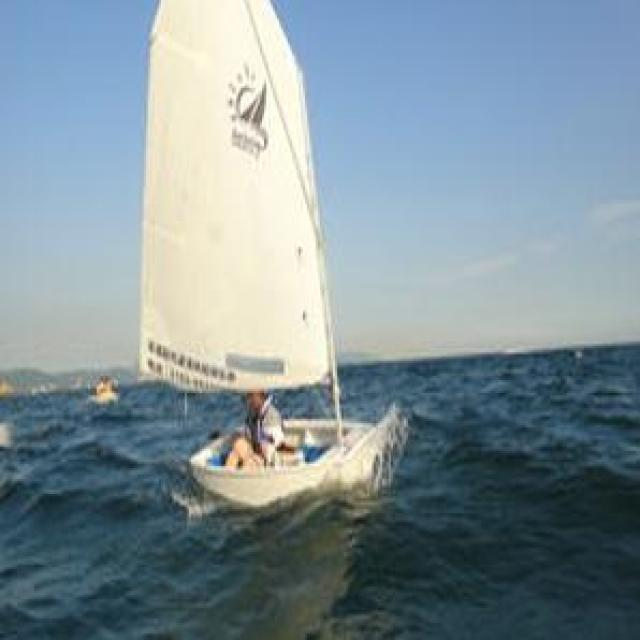sailboat: (132, 4, 419, 524)
